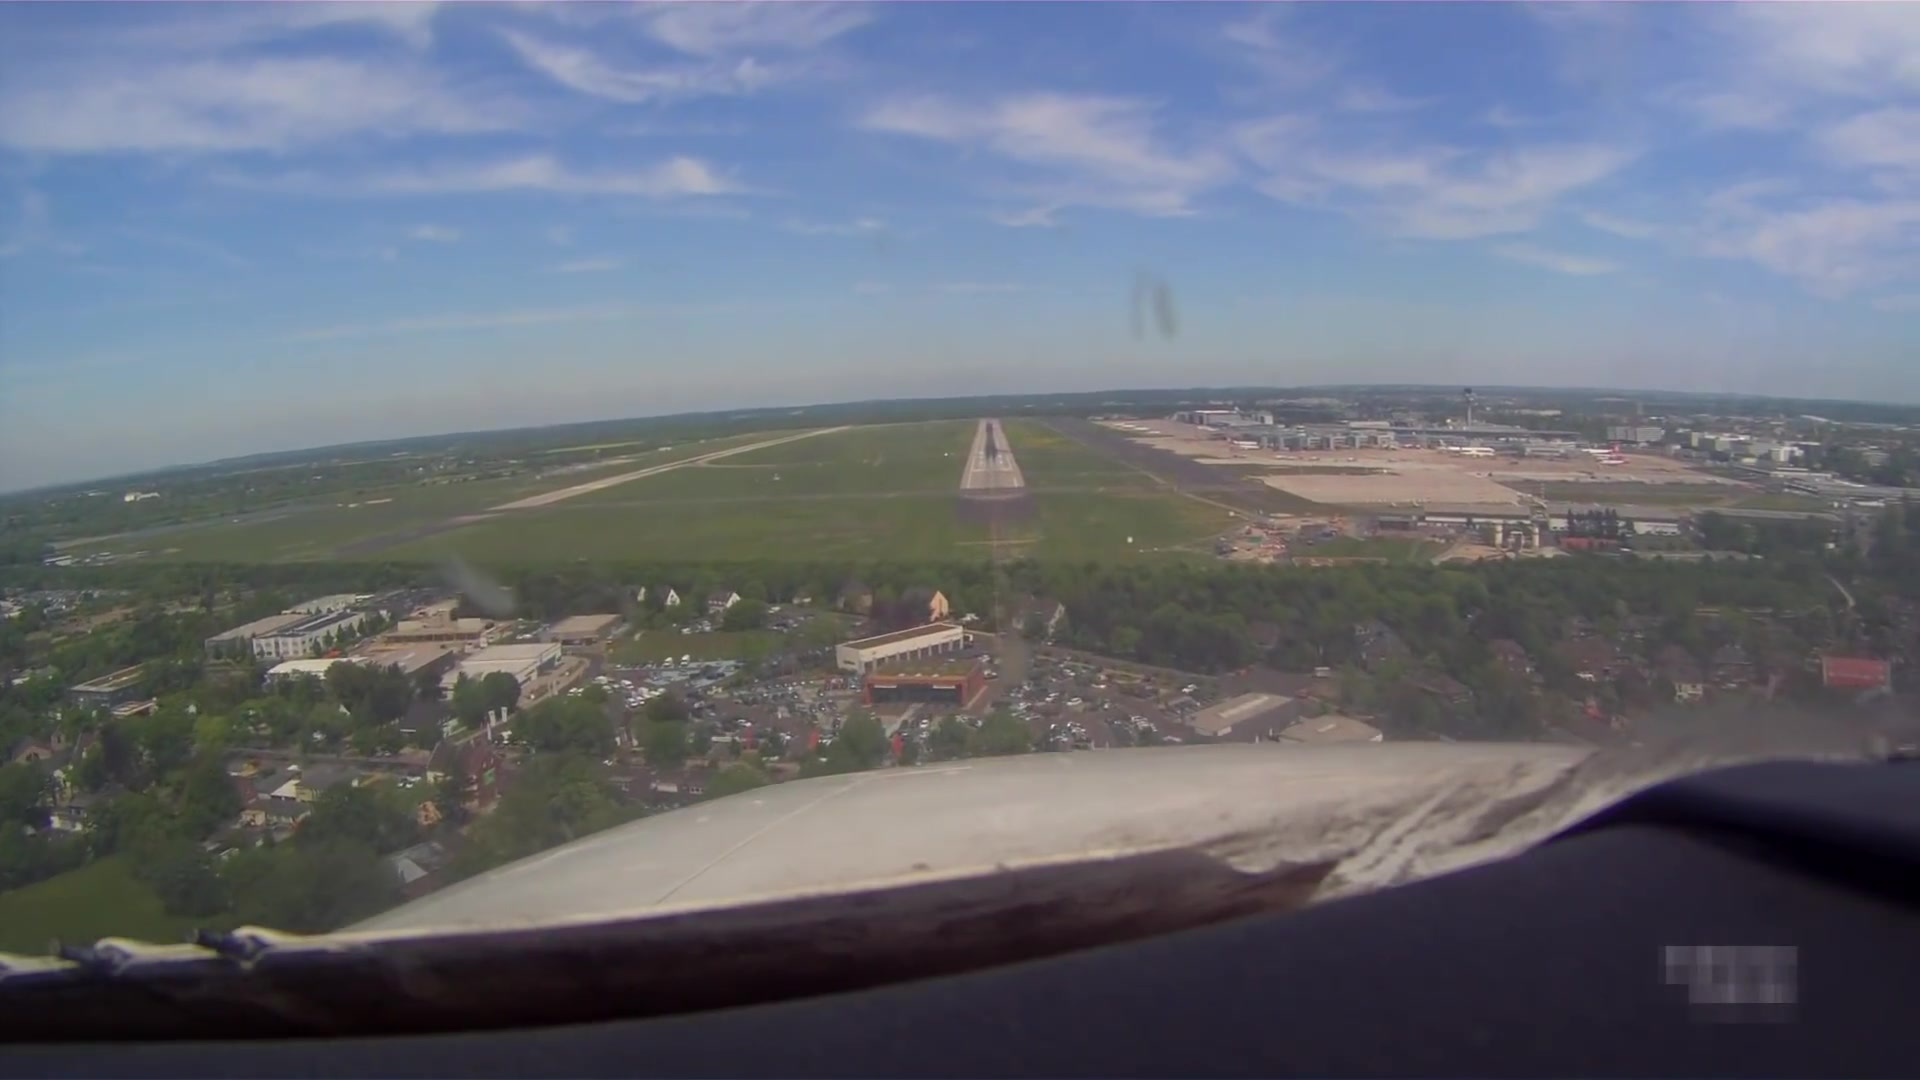runway: (961, 418, 1025, 491)
